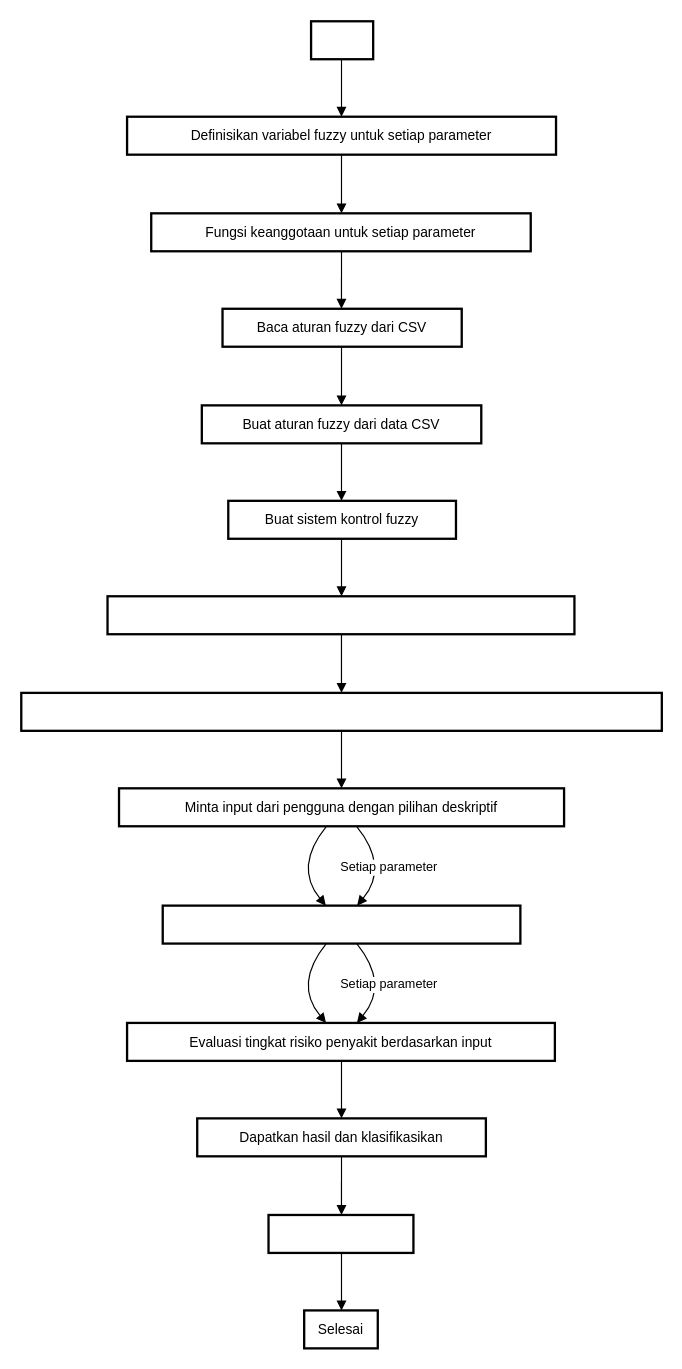
Some shapes in this 682 by 1369 pixel diagram are drawn without their labels. The box of each missing label's shape, as (x1, y1, x2, y2) in pixels:
Fungsi untuk konversi input deskriptif ke nilai numerik: (106, 595, 575, 635)
Fungsi untuk mengklasifikasikan tingkat risiko penyakit ke penyakit spesifik: (20, 691, 662, 731)
Konversi input pengguna ke nilai numerik: (161, 904, 521, 944)
Mulai: (309, 20, 374, 60)
Tampilkan hasil: (267, 1213, 414, 1254)
